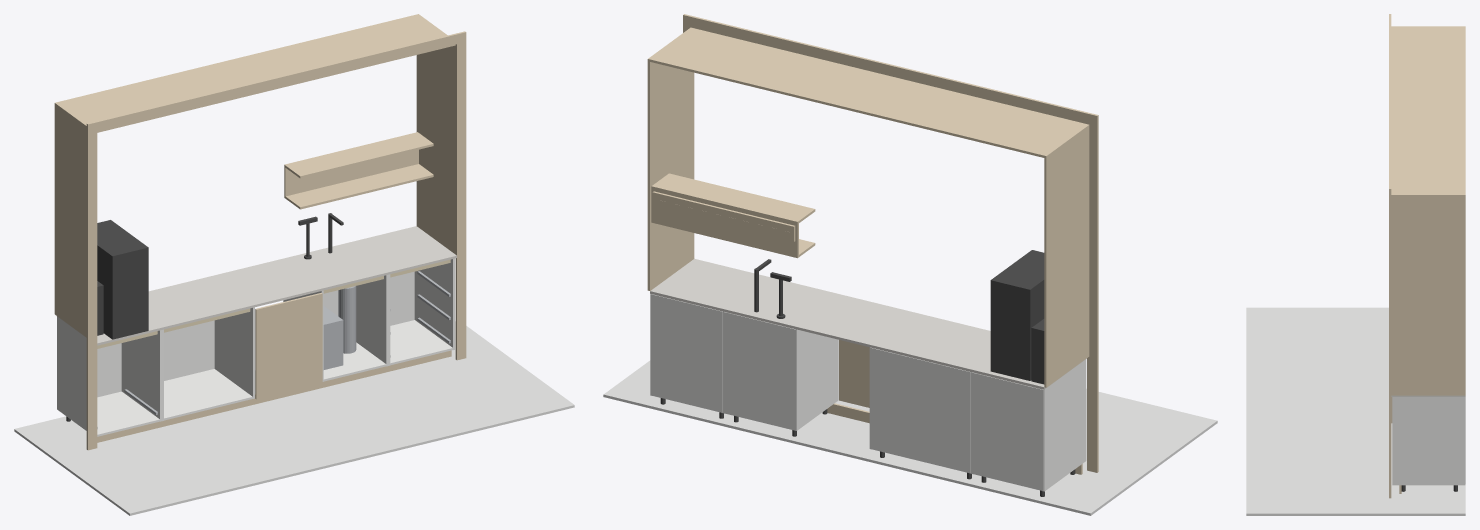
Rendered from korpus.glb.
The picture shows the model from 3 angles, left to right: view 1: azimuth 30°, elevation 25°; view 2: azimuth 150°, elevation 25°; view 3: azimuth 270°, elevation 25°; orthographic projection. The views are drawn at different scales.
Size of the model in its own units: 4000 by 2820 by 1801.
